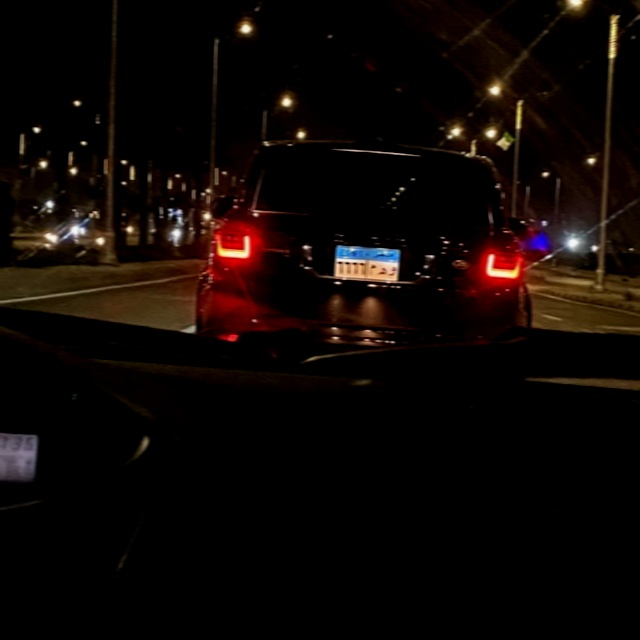License Plate: (330, 243, 401, 283)
